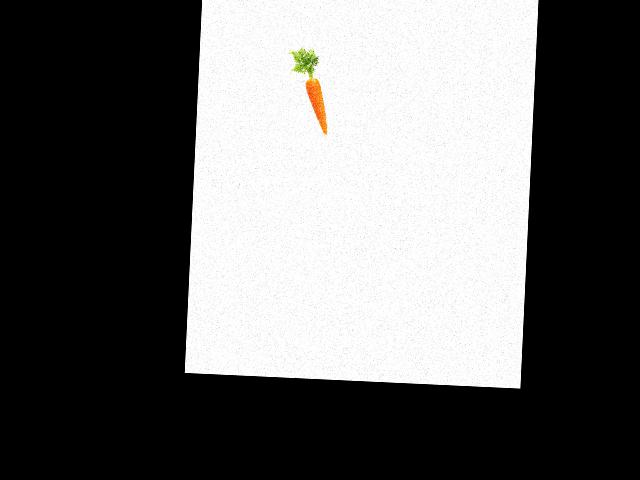carrot: (301, 76, 331, 138)
